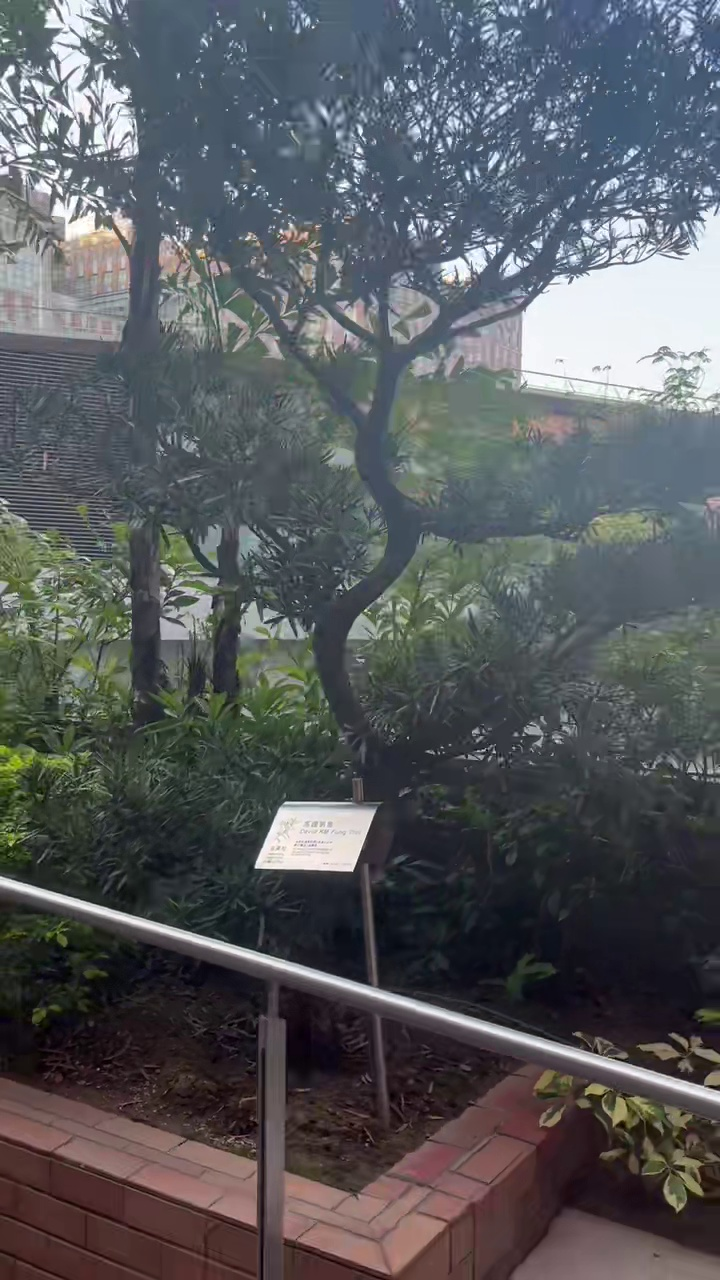Podocarpus macrophyllus: (182, 0, 719, 767)
